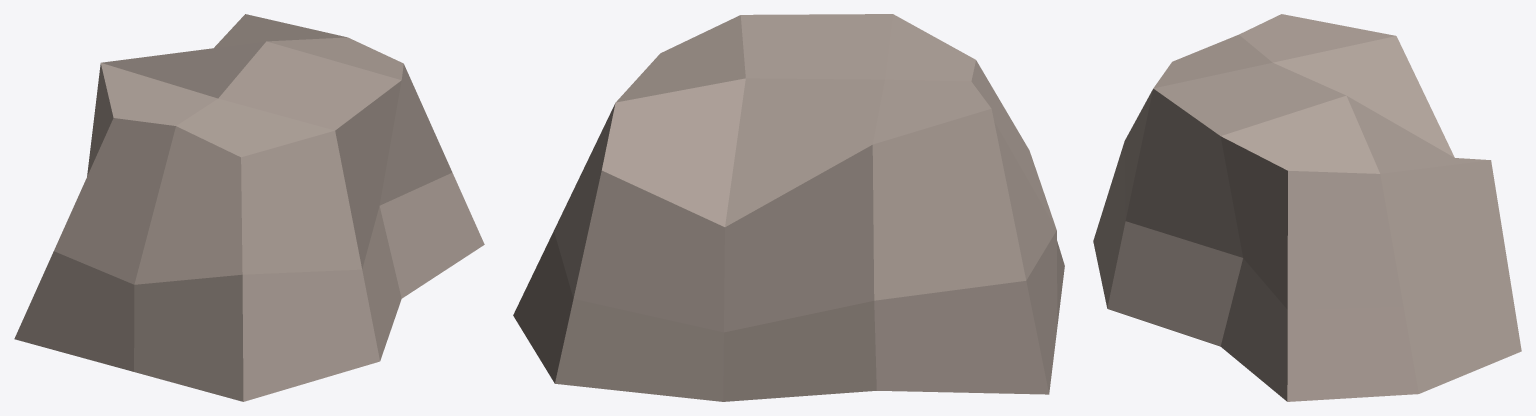
The model's file is SM_Rock1.fbx.
3 views of the same model, side by side, from view 1: azimuth 30°, elevation 25°; view 2: azimuth 150°, elevation 25°; view 3: azimuth 270°, elevation 25° (orthographic). The views are drawn at different scales.
Visible parts, largest first — view 1: Rock1; view 2: Rock1; view 3: Rock1.
Boxes of the visible parts, <box> form: Rock1: <box>14,14,484,401</box>; Rock1: <box>513,14,1064,401</box>; Rock1: <box>1093,14,1521,401</box>.
Size of the model in its own units: 13.77 by 6.63 by 11.8.
